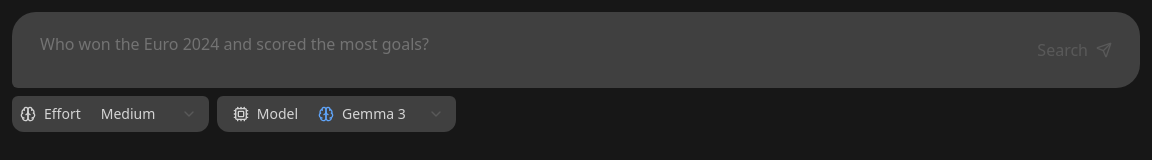
Scenario: InputForm › clears input and sets focus back to textarea when Clear button is clicked
In the text box named "chat input": (527, 56) [28, 24, 1025, 88], type "test query"
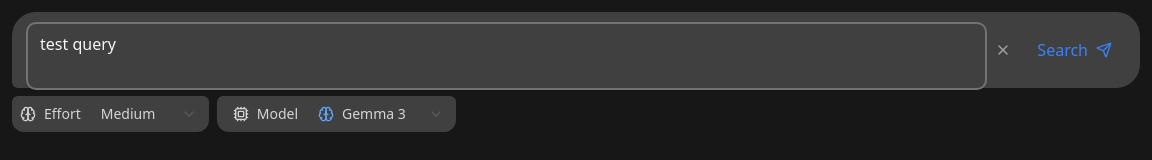
Expected: the button named "clear input" is shown
Click the button named "clear input": (1003, 50) [985, 32, 1021, 68]
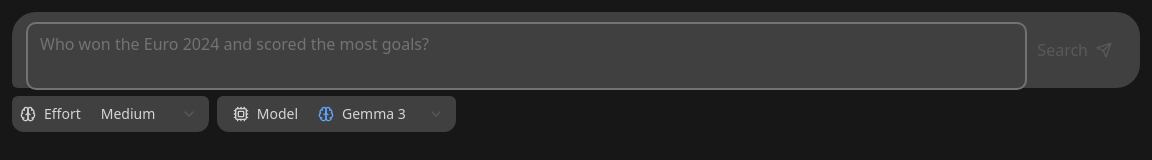
Expected: the text box named "chat input" is empty, [28, 24, 1025, 88]
